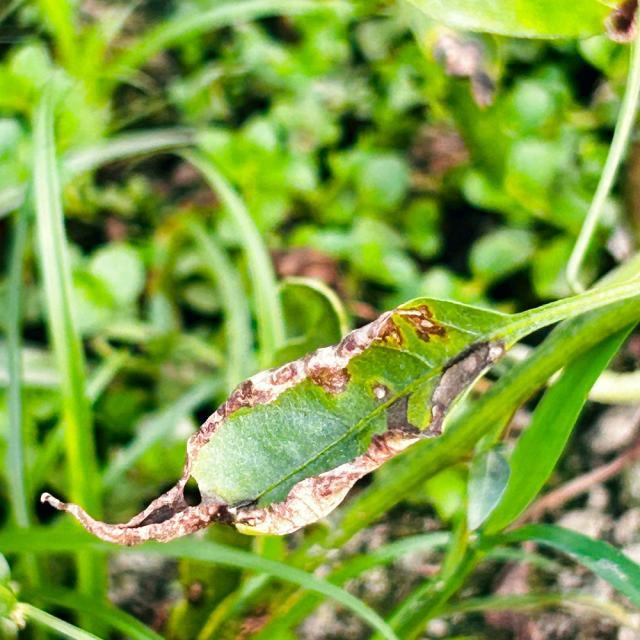Bercak Daun Serkospora: (41, 288, 640, 550)
